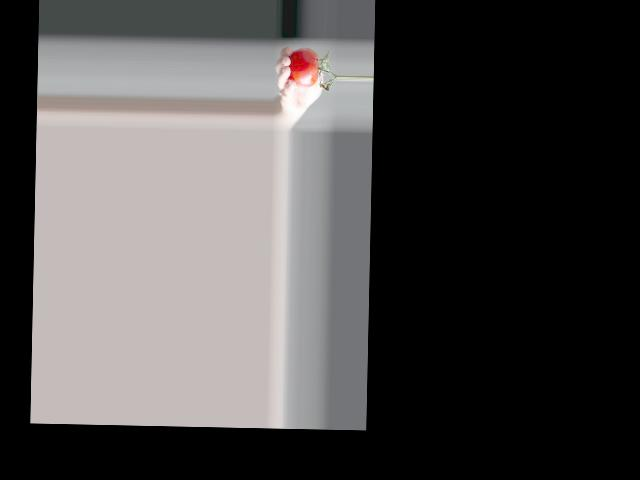tomato: (288, 47, 320, 88)
